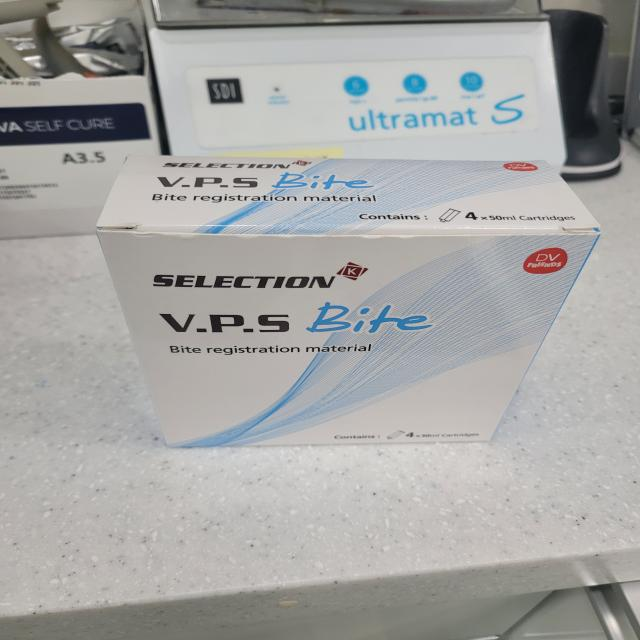impression: (57, 134, 612, 472)
